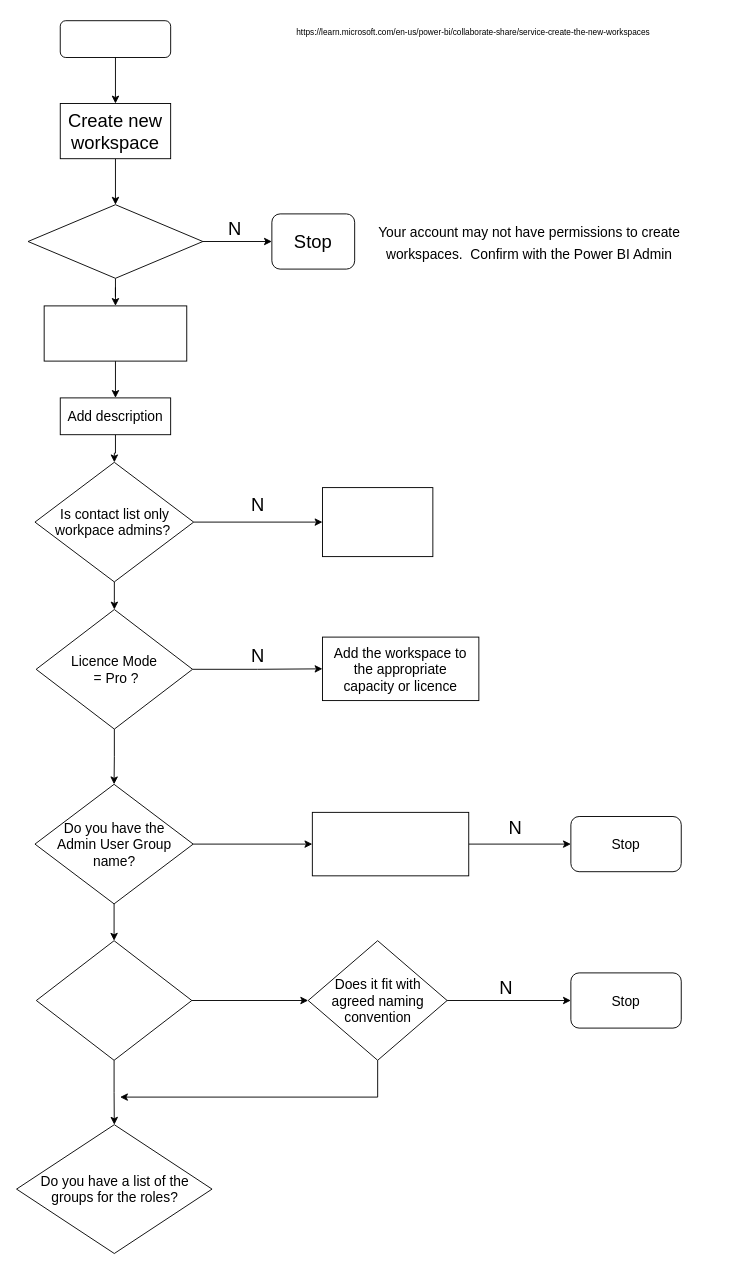
Image size: 729x1270. Some labels were removed from this diagram. The shapes that lost their labels are listed below. From the top down, each one's centre as x and y in pixels, then its label:
At pixel 115 39: "Start".
At pixel 115 241: "Successful".
At pixel 115 333: "Enter the name of workspace".
At pixel 377 522: "Add Group (or user) to contact list".
At pixel 390 843: "Add the Admin User Group to the role".
At pixel 113 1000: "Do you have the name of the workspace?".
